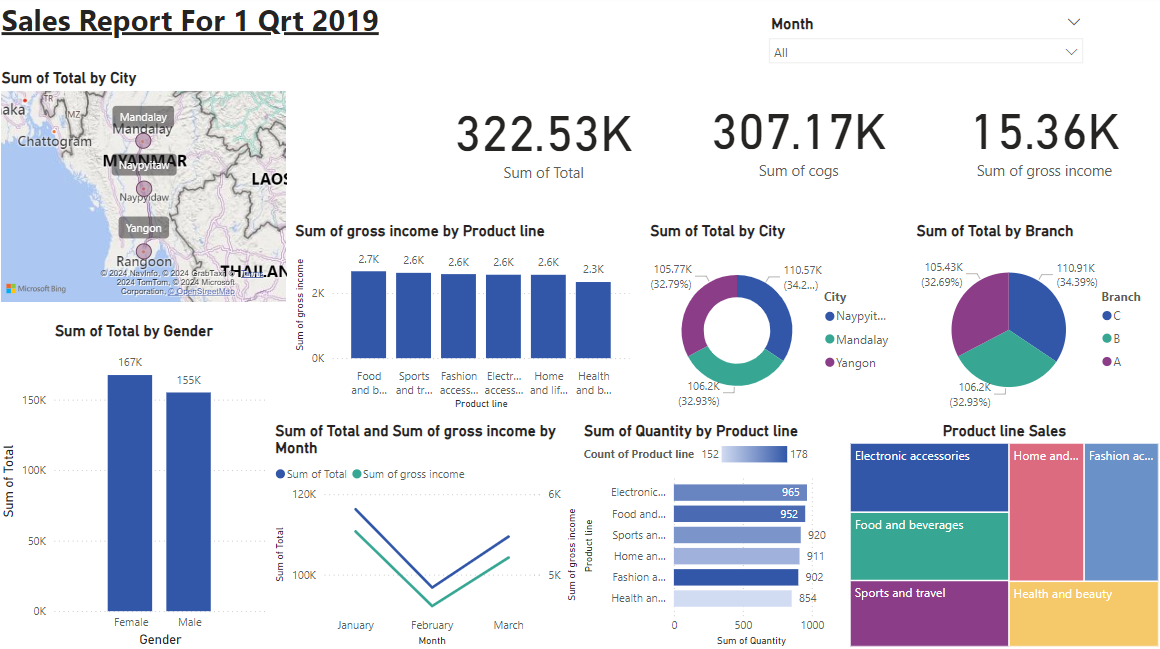

This screenshot's page, from the dashboard's own definition file:
{"tool":"powerbi","page":{"name":"Page 1","canvas":[1280,720],"ordinal":0},"visuals":[{"type":"card","fields":{"Values":["Sum(supermarket_sales.gross income)"]},"box":[1019.6,64.5,260.7,178.4],"z":0},{"type":"card","fields":{"Values":["Sum(supermarket_sales.Total)"]},"box":[459.7,70,281.3,172.9],"z":1000},{"type":"card","fields":{"Values":["Sum(supermarket_sales.cogs)"]},"box":[741,64.5,278.6,178.4],"z":2000},{"type":"clusteredColumnChart","fields":{"Category":["supermarket_sales.Gender"],"Y":["Sum(supermarket_sales.Total)"]},"box":[0,358.1,300.5,362.3],"z":3000},{"type":"pieChart","fields":{"Y":["Sum(supermarket_sales.Total)"],"Category":["supermarket_sales.Branch"]},"box":[1004.5,248.4,275.8,219.6],"z":4000},{"type":"donutChart","fields":{"Y":["Sum(supermarket_sales.Total)"],"Category":["supermarket_sales.City"]},"box":[712.2,248.4,282.7,220.9],"z":5000},{"type":"clusteredColumnChart","fields":{"Category":["supermarket_sales.Product line"],"Y":["Sum(supermarket_sales.gross income)"]},"box":[322.5,248.4,377.4,211.3],"z":5001},{"type":"map","fields":{"Category":["supermarket_sales.City"],"Size":["Sum(supermarket_sales.Total)"]},"box":[0,81,322.5,260.7],"z":5002},{"type":"lineChart","fields":{"Y":["Sum(supermarket_sales.Total)"],"Y2":["Sum(supermarket_sales.gross income)"],"Category":["supermarket_sales.Date.Variation.Date Hierarchy.Month"]},"box":[300.5,467.9,341.7,252.5],"z":5003},{"type":"clusteredBarChart","fields":{"Category":["supermarket_sales.Product line"],"Y":["Sum(supermarket_sales.Quantity)"]},"box":[639.5,467.9,292.3,252.5],"z":5004},{"type":"treemap","title":"Product line Sales","fields":{"Group":["supermarket_sales.Product line"],"Values":["Sum(supermarket_sales.Quantity)"]},"box":[931.7,467.9,348.5,252.5],"z":5005},{"type":"slicer","fields":{"Values":["supermarket_sales.Date.Variation.Date Hierarchy.Month"]},"box":[837.1,16.5,365,64.5],"z":5006},{"type":"textbox","box":[0,0,557.1,64.5],"z":5007}]}

Visuals, with their boxes in screenshot pixels (x1, y1, x2, y2), scaled from the page's 1280x720 canvas onto the 1160x649 screenshot:
card - Sum(supermarket_sales.gross income): pyautogui.locateOnScreen(924, 58, 1159, 219)
card - Sum(supermarket_sales.Total): pyautogui.locateOnScreen(417, 63, 672, 219)
card - Sum(supermarket_sales.cogs): pyautogui.locateOnScreen(672, 58, 924, 219)
clusteredColumnChart - supermarket_sales.Gender x Sum(supermarket_sales.Total): pyautogui.locateOnScreen(0, 323, 272, 648)
pieChart - Sum(supermarket_sales.Total) x supermarket_sales.Branch: pyautogui.locateOnScreen(910, 224, 1159, 422)
donutChart - Sum(supermarket_sales.Total) x supermarket_sales.City: pyautogui.locateOnScreen(645, 224, 902, 423)
clusteredColumnChart - supermarket_sales.Product line x Sum(supermarket_sales.gross income): pyautogui.locateOnScreen(292, 224, 634, 414)
map - supermarket_sales.City x Sum(supermarket_sales.Total): pyautogui.locateOnScreen(0, 73, 292, 308)
lineChart - Sum(supermarket_sales.Total) x Sum(supermarket_sales.gross income): pyautogui.locateOnScreen(272, 422, 582, 648)
clusteredBarChart - supermarket_sales.Product line x Sum(supermarket_sales.Quantity): pyautogui.locateOnScreen(580, 422, 844, 648)
"Product line Sales" treemap: pyautogui.locateOnScreen(844, 422, 1159, 648)
slicer - supermarket_sales.Date.Variation.Date Hierarchy.Month: pyautogui.locateOnScreen(759, 15, 1089, 73)
textbox: pyautogui.locateOnScreen(0, 0, 505, 58)
